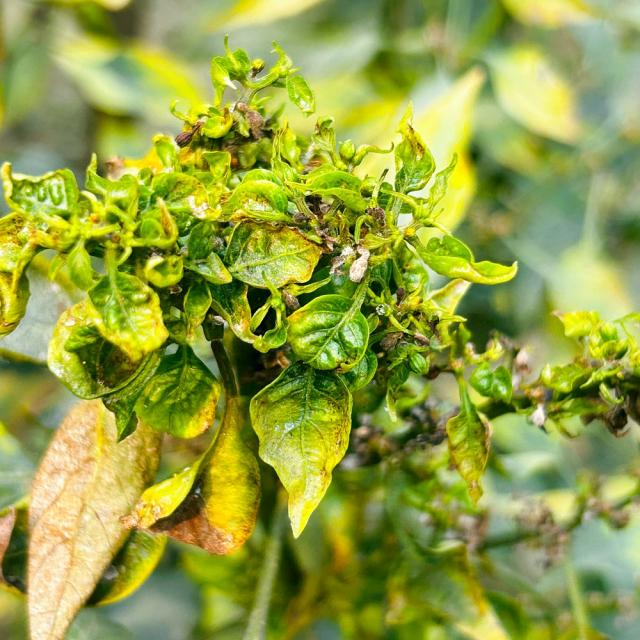Chilli_Leaf_Curl: (1, 34, 520, 559), (24, 396, 165, 638), (248, 359, 354, 539), (527, 307, 639, 440), (284, 282, 371, 373), (444, 372, 492, 505)
